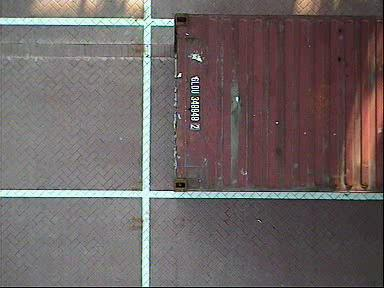groundmarker_2: (9, 97, 144, 157)
